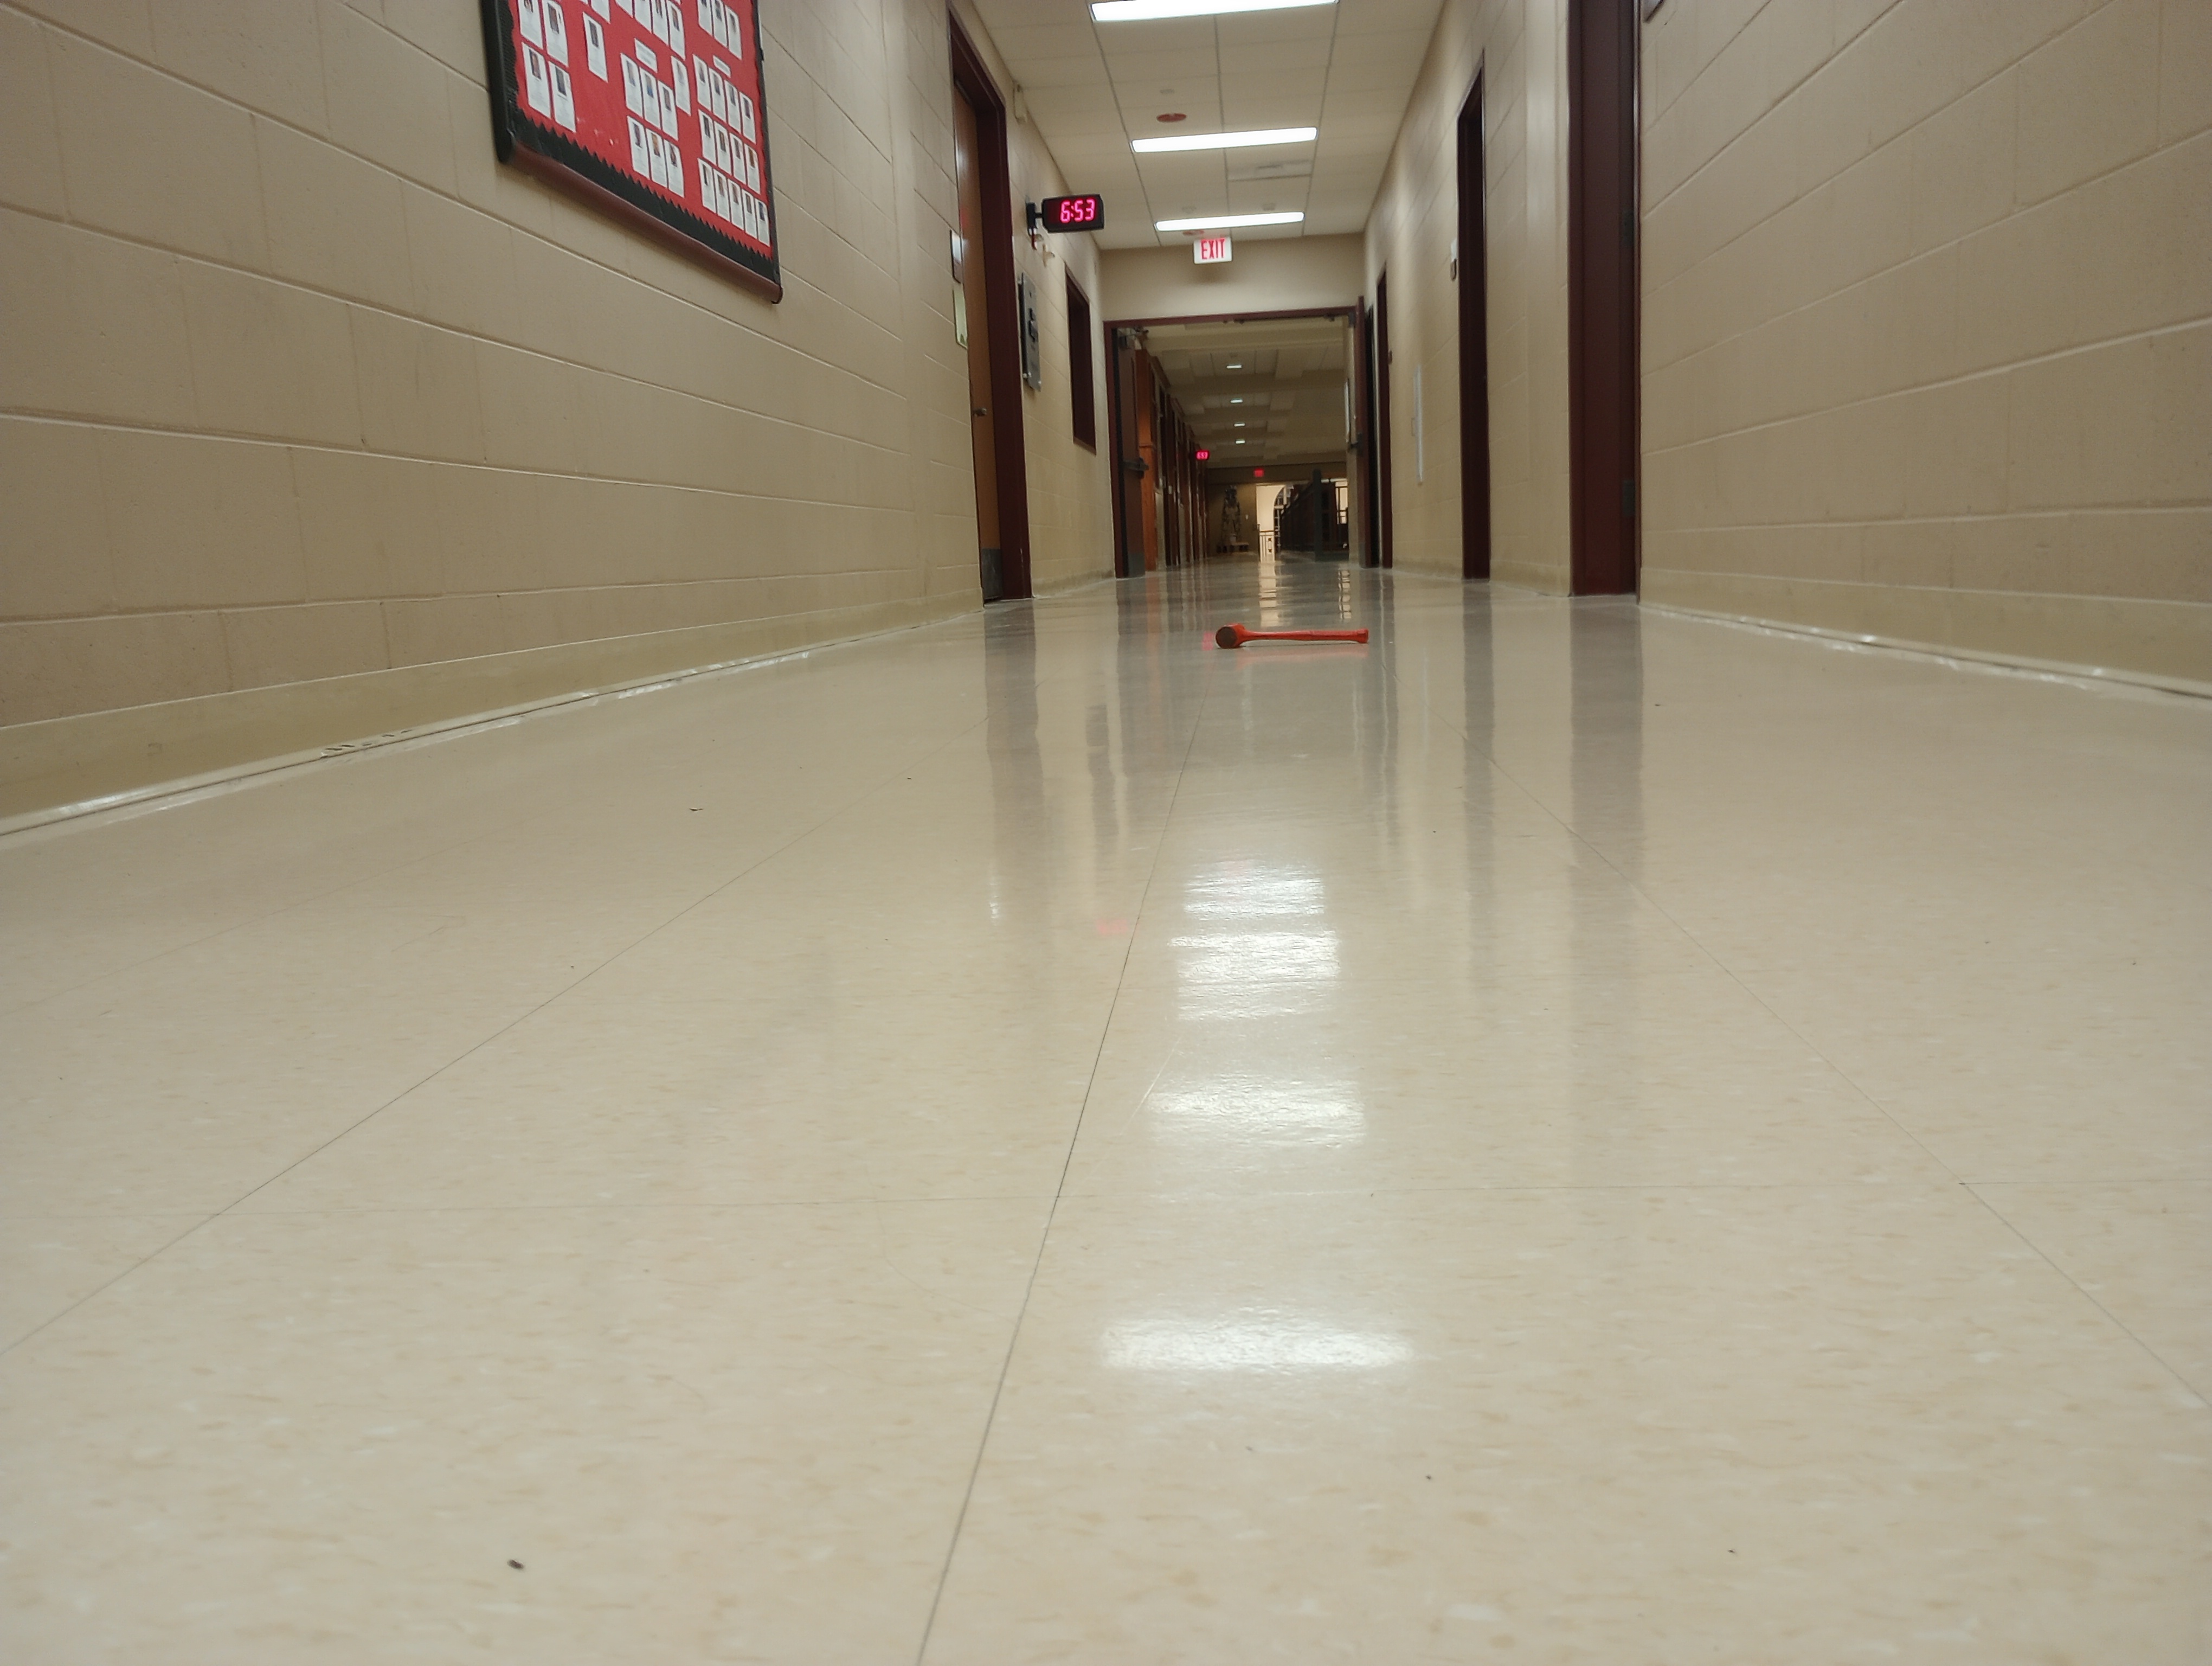hammer: (1208, 602, 1376, 656)
